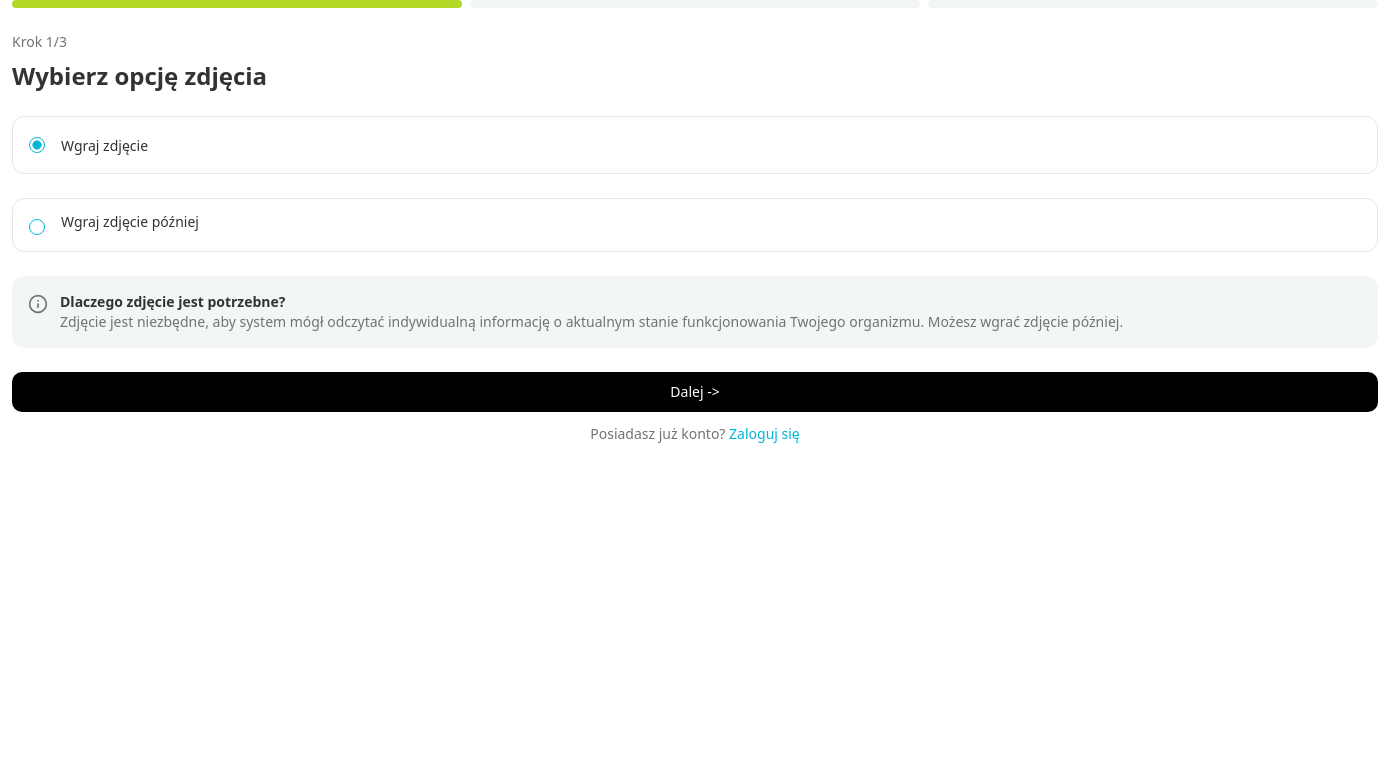
Test case: SignupWizard › requires first name and last name on step 3
Click the radio button named "Wgraj zdjęcie później" next to "Wgraj zdjęcie później" at (37, 227), box [29,219,45,235]
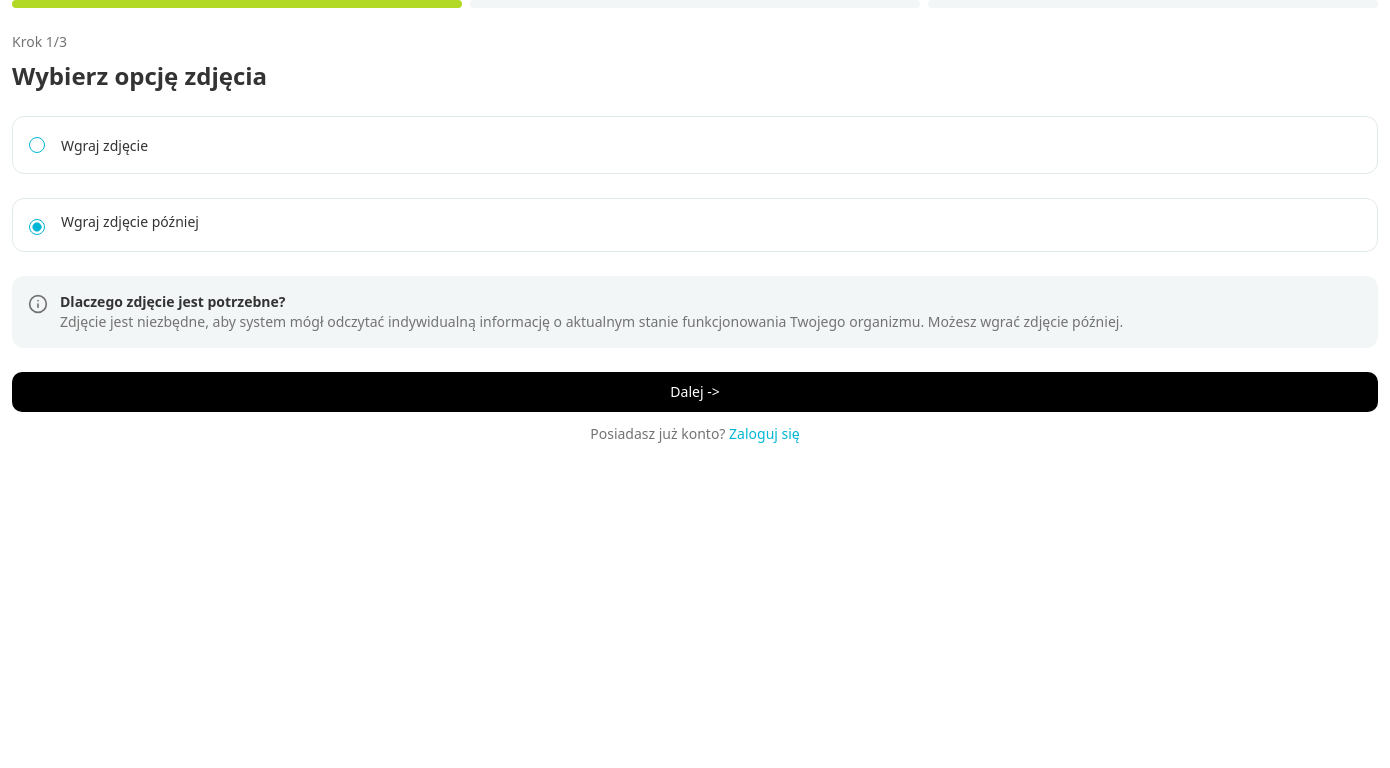
Click the button "Dalej ->" at (695, 392), box [12,372,1378,412]
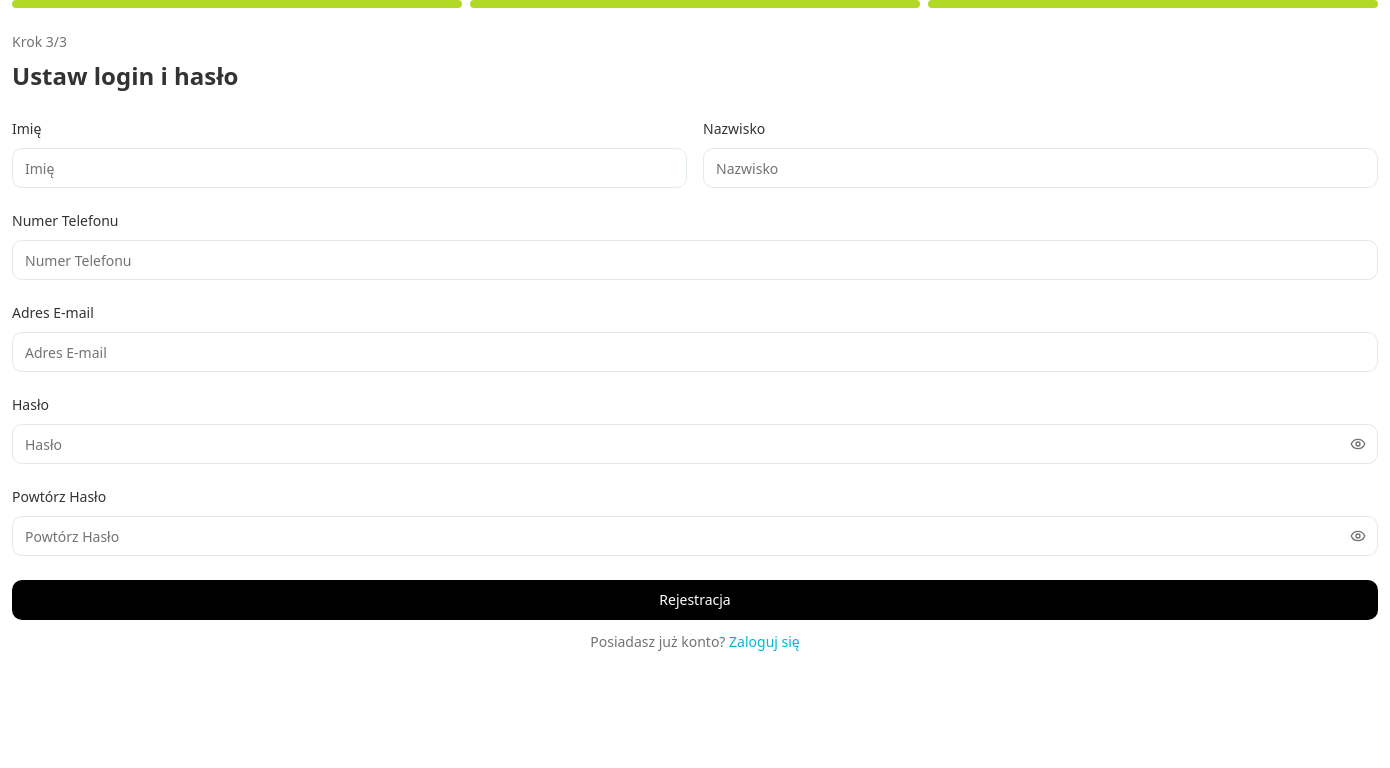
Result: the heading "Ustaw login i hasło" is shown at [12,59,238,92]
Click the button "Rejestracja" at (695, 600), box [12,580,1378,620]
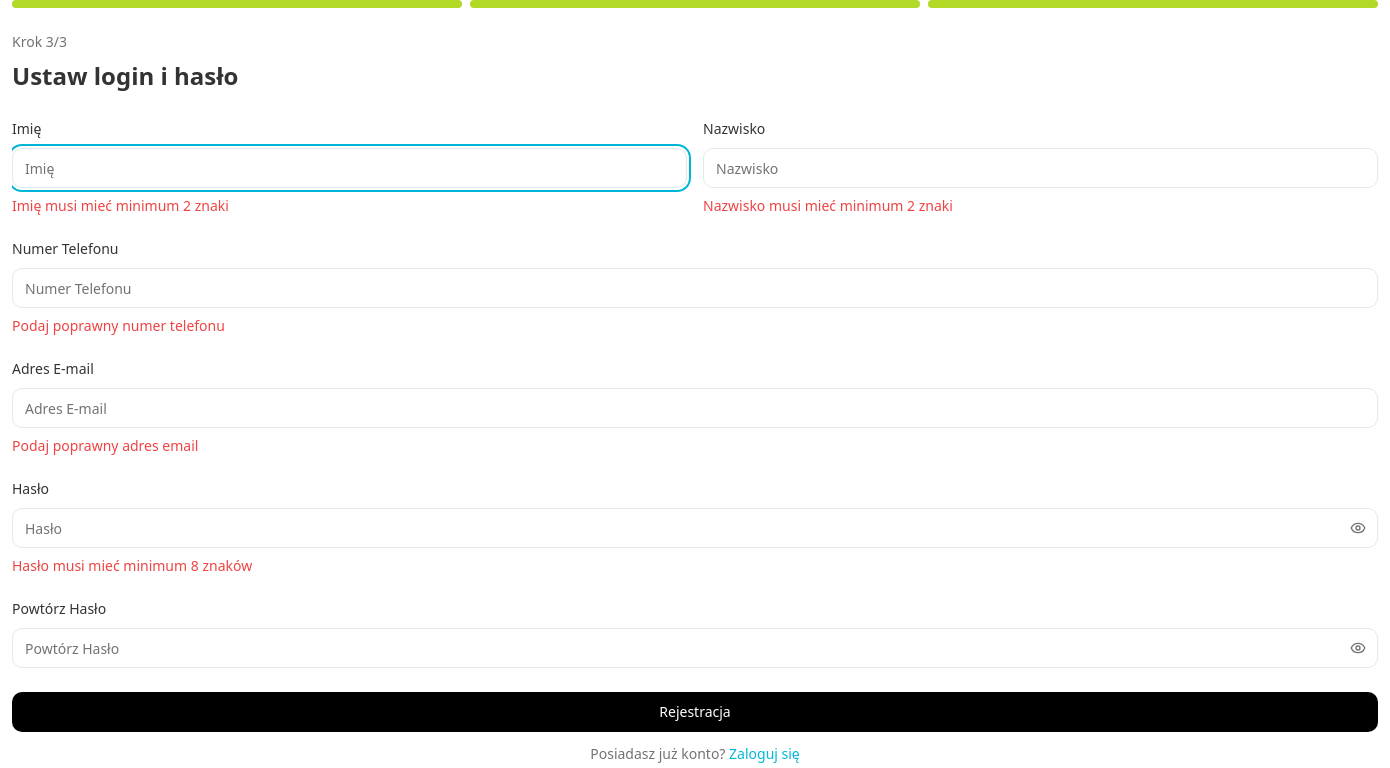
Result: the text "Imię musi mieć minimum 2 znaki" is shown at [12,196,229,215]
Result: the text "Nazwisko musi mieć minimum 2 znaki" is shown at [703,196,953,215]
